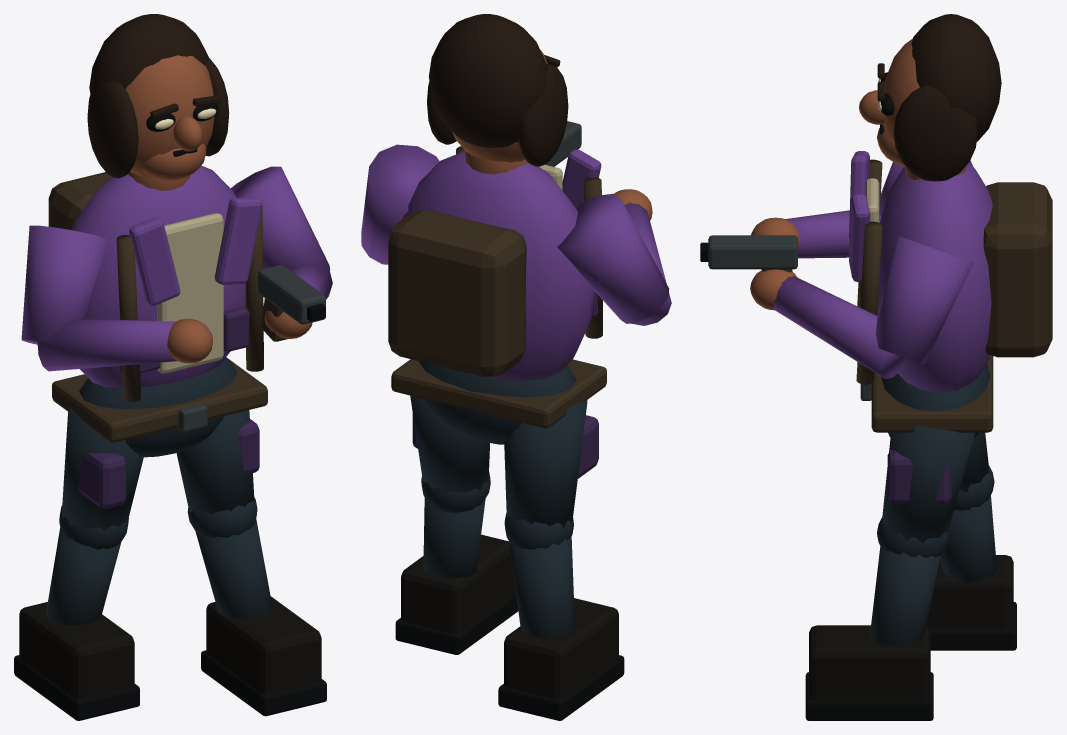
File: survivor_04.glb
3 renders of one model, left to right at view 1: azimuth 30°, elevation 25°; view 2: azimuth 150°, elevation 25°; view 3: azimuth 270°, elevation 25°, orthographic.
Parts seen in each view (by area): view 1: survivor_04; view 2: survivor_04; view 3: survivor_04.
Part boxes in pixels (box(x1,y1,x2,y2)): survivor_04: box(14, 14, 332, 720); survivor_04: box(361, 14, 671, 720); survivor_04: box(700, 14, 1052, 720).
Size of the model in its own units: 0.5398 by 1.12 by 0.55.
